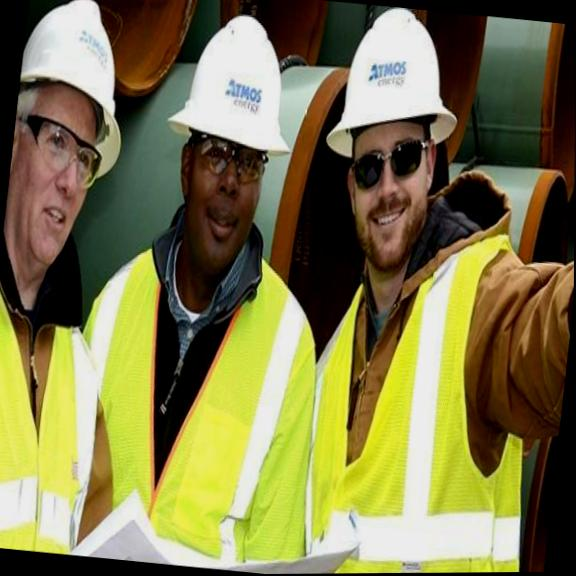safety_vest: (287, 204, 568, 574), (59, 238, 333, 576), (0, 226, 108, 555)
